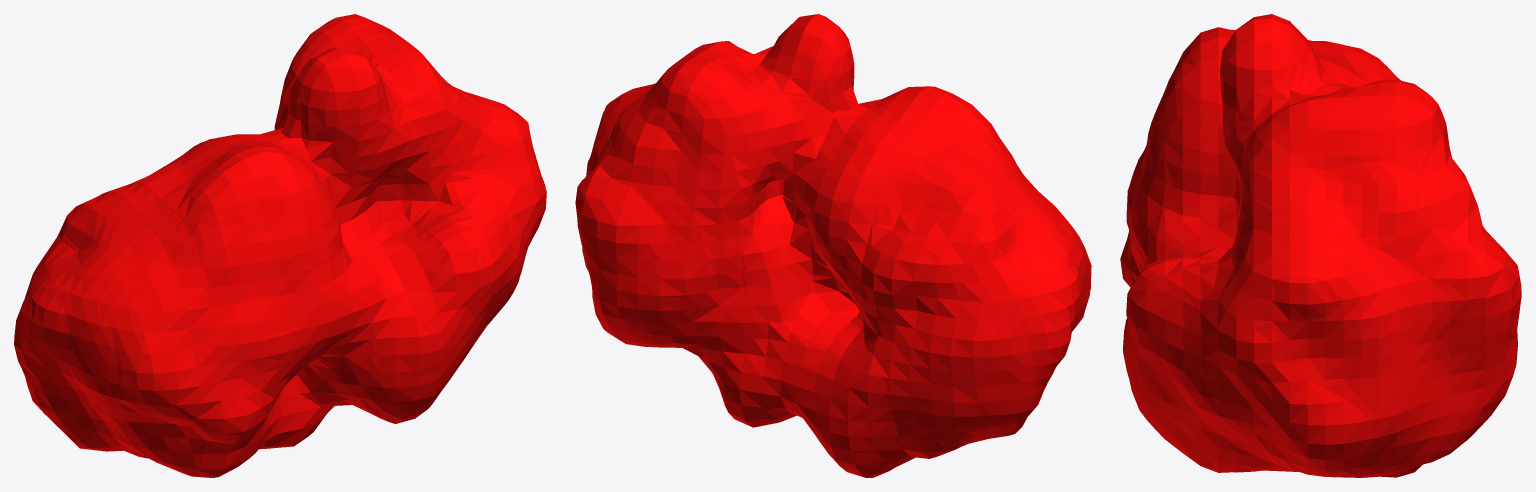
File: tehB_coarse.dae
3 views of the same model, side by side, from view 1: azimuth 30°, elevation 25°; view 2: azimuth 150°, elevation 25°; view 3: azimuth 270°, elevation 25° (orthographic). The views are drawn at different scales.
Parts seen in each view (by area): view 1: tehB; view 2: tehB; view 3: tehB.
Part boxes in pixels (x1,y1,x2,y2): tehB: (14, 14, 546, 477); tehB: (575, 14, 1091, 477); tehB: (1120, 14, 1521, 477).
Size of the model in its own units: 76.1 by 60.14 by 45.44.
